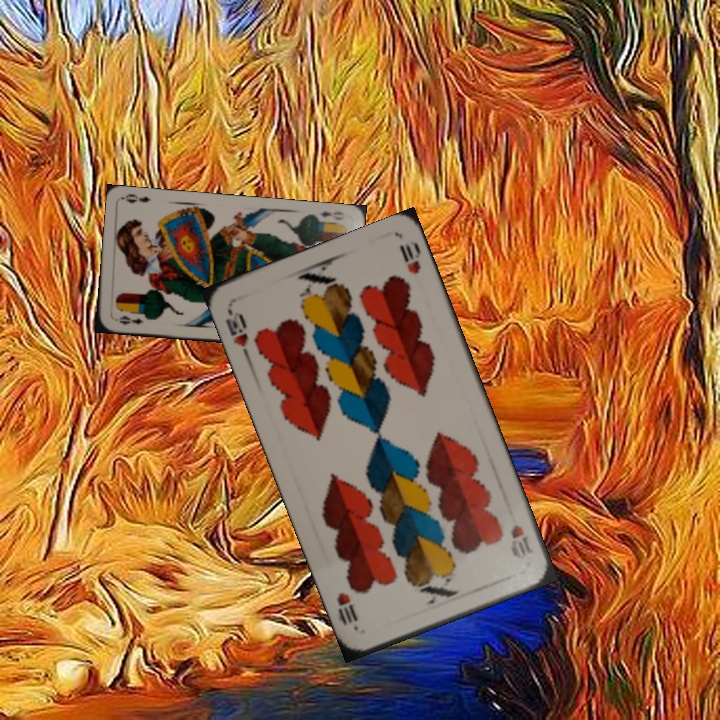EO: (115, 311, 146, 327), (316, 207, 347, 222)
H10: (221, 305, 251, 350), (506, 520, 537, 563)
